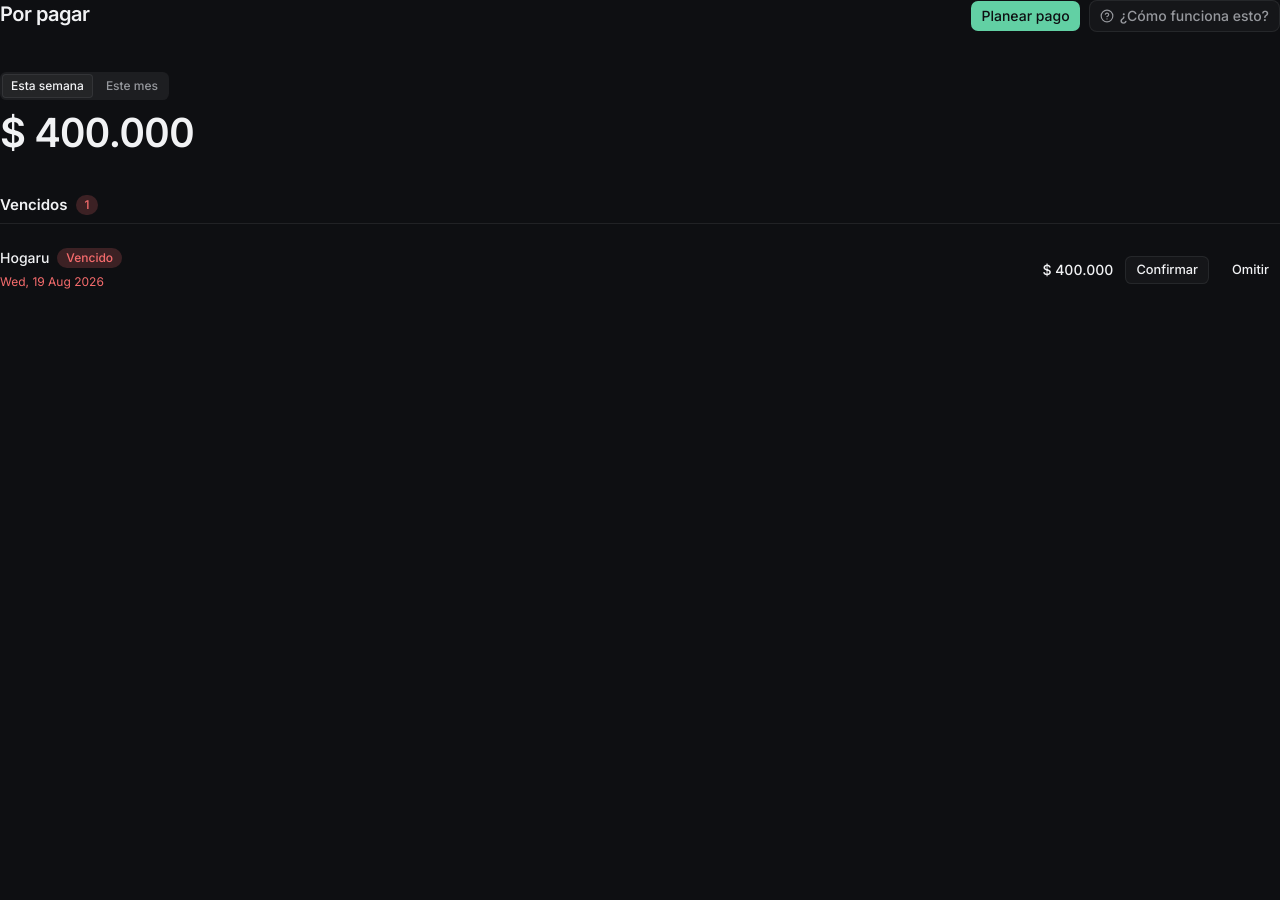
Test: 012 — confirming a payment says which account it came out of › An account in another currency is on the list
Step 1. Click the button "Confirmar" → click(1167, 270), box [1125,256,1209,284]
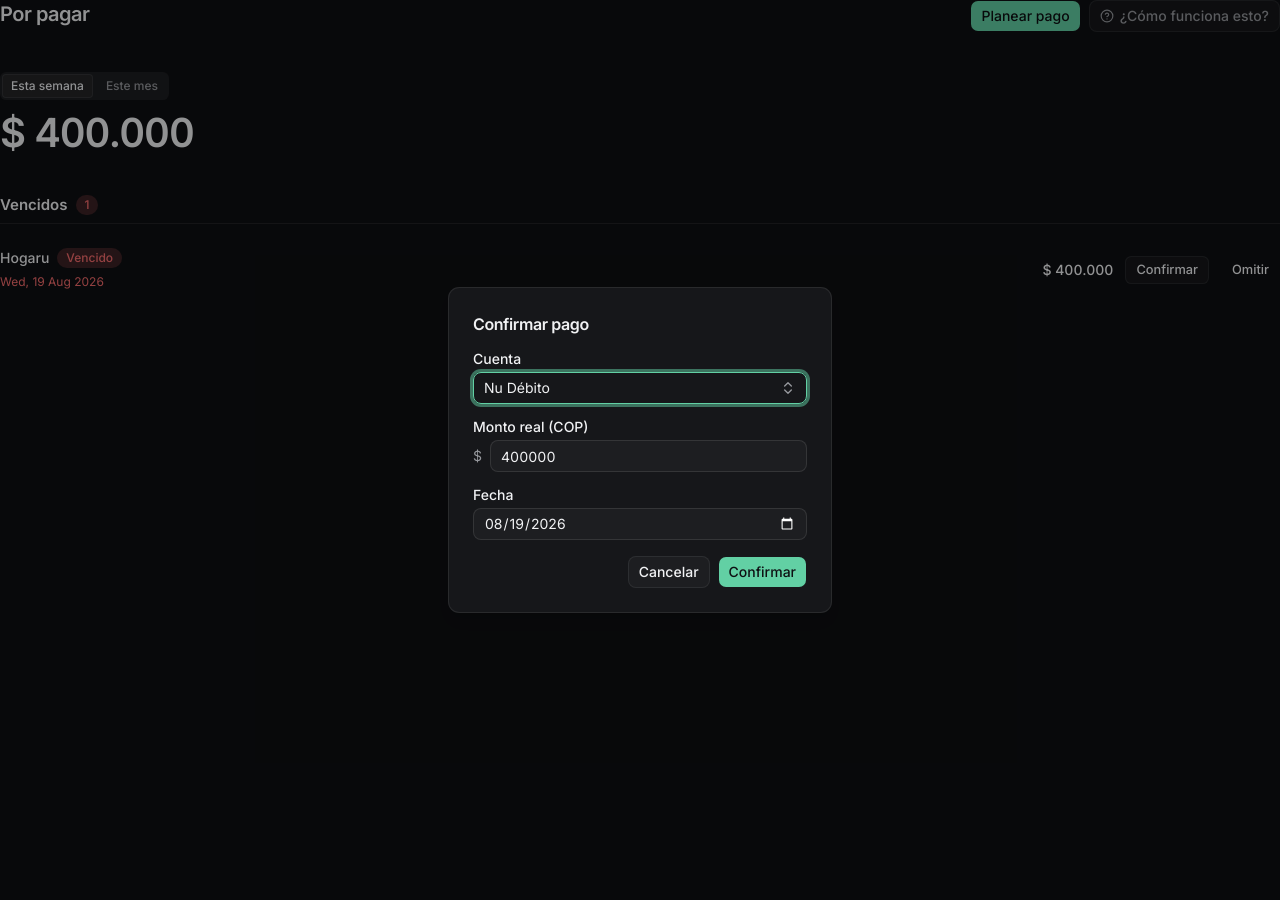
Expected: the dropdown named "Cuenta" reads "Nu Débito"
Step 2. Click the dropdown named "Cuenta" → click(517, 388), box [473,372,807,404]
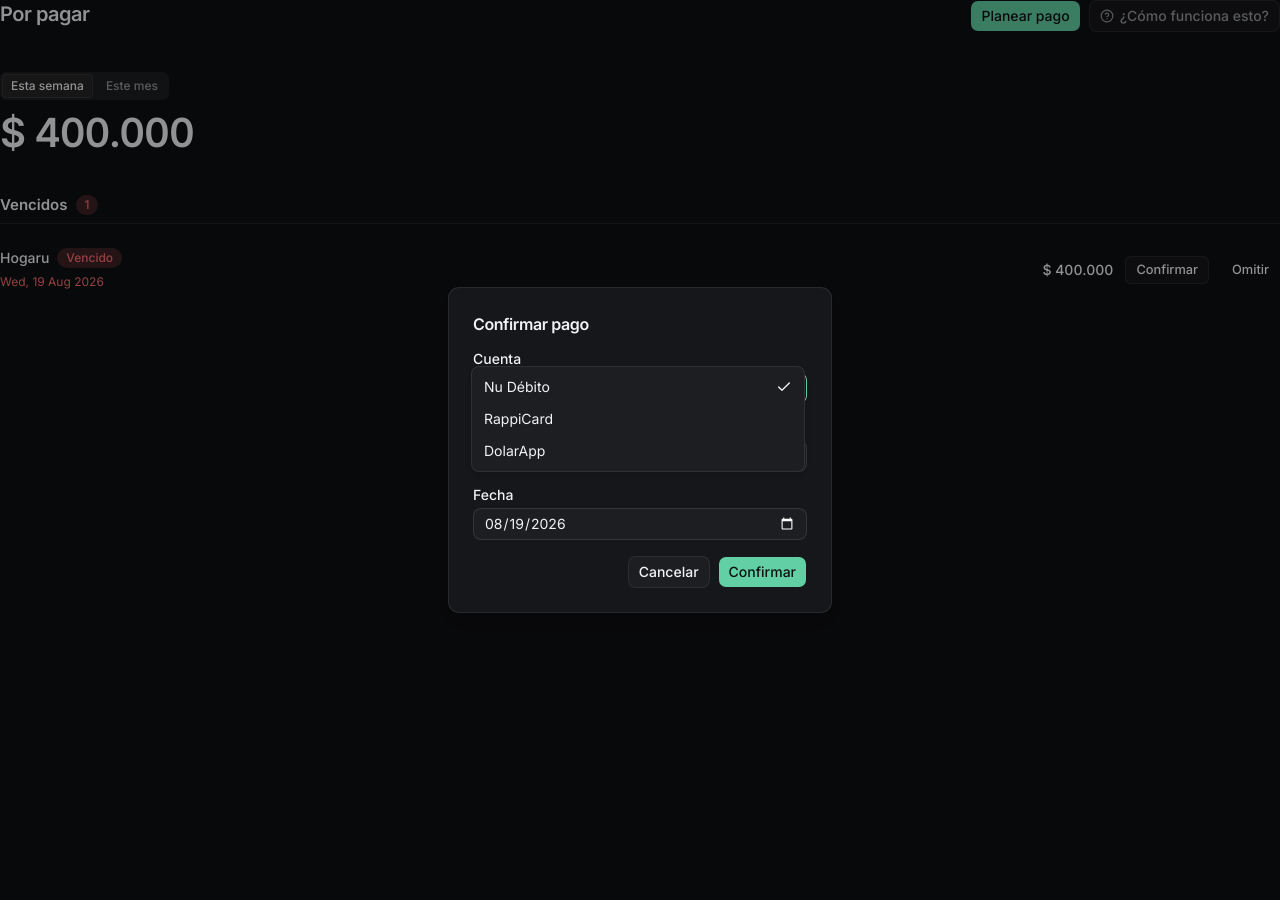
Expected: the option "DolarApp" is shown, [484,442,545,459]
Expected: the option "Nu Débito" is shown, [476,371,800,403]
